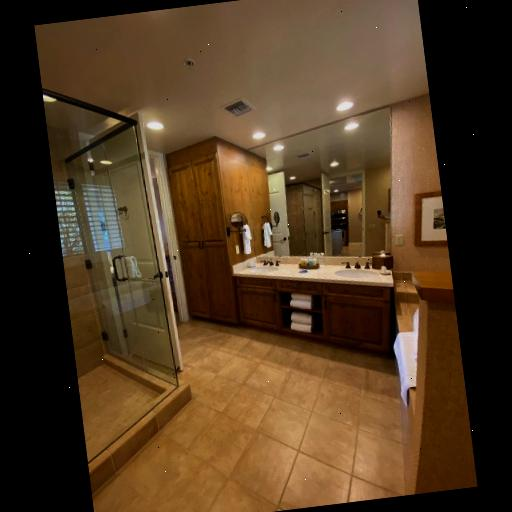clean shower: (44, 80, 192, 446)
clean_floor: (89, 314, 405, 512)
clean_sink: (227, 247, 396, 362)
folded_towel: (283, 290, 316, 336)
